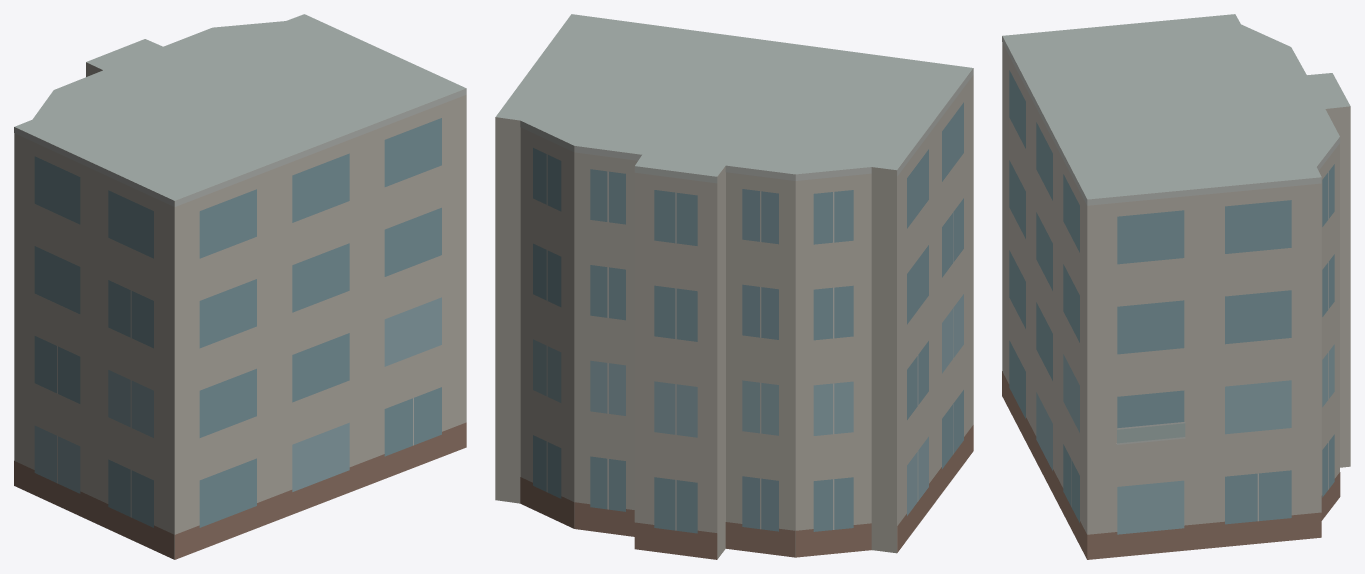
File: survey-upis-32960435.glb
3 renders of one model, left to right at view 1: azimuth 30°, elevation 25°; view 2: azimuth 150°, elevation 25°; view 3: azimuth 270°, elevation 25°, orthographic. The views are drawn at different scales.
Parts seen in each view (by area): view 1: survey-upis-32960435.tmp; view 2: survey-upis-32960435.tmp; view 3: survey-upis-32960435.tmp.
Boxes of the visible parts, bbox=[...] form: survey-upis-32960435.tmp: bbox=[14, 14, 466, 559]; survey-upis-32960435.tmp: bbox=[495, 14, 973, 559]; survey-upis-32960435.tmp: bbox=[1002, 14, 1350, 559].
Size of the model in its own units: 15.6 by 14.12 by 12.38.
